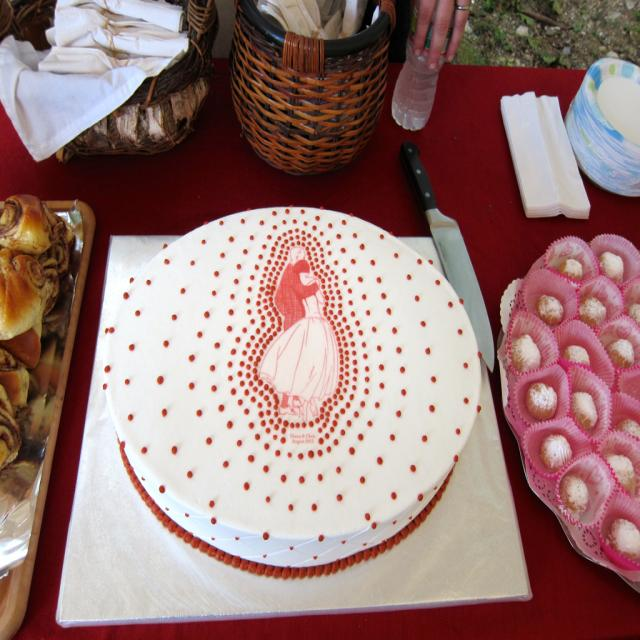non-organic waste: (115, 198, 482, 587)
